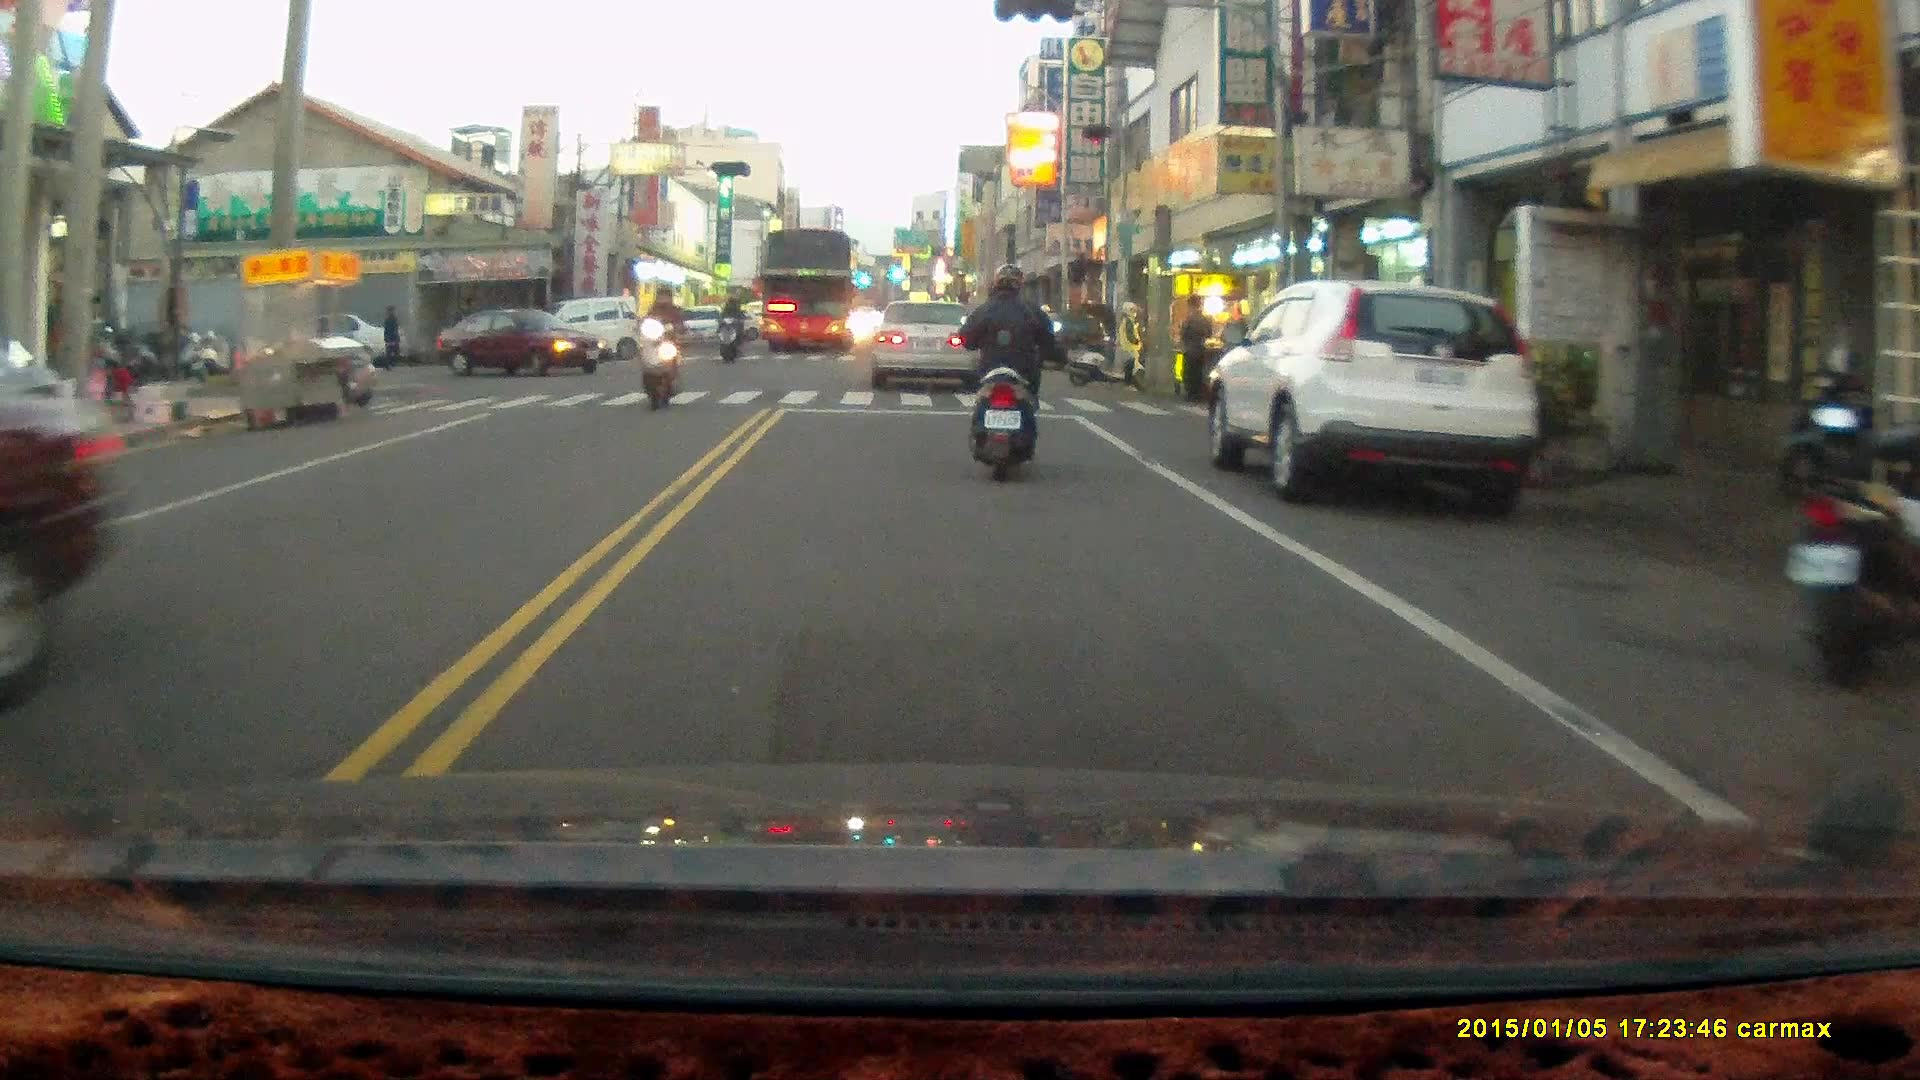pedestrian: (1179, 293, 1211, 404), (1116, 297, 1149, 391), (378, 301, 401, 367)
rider: (956, 260, 1058, 478), (628, 279, 681, 411), (717, 291, 742, 362)
vehicle: (1210, 278, 1539, 504), (1, 311, 119, 677), (750, 231, 862, 351), (446, 305, 605, 381), (870, 300, 981, 393)
